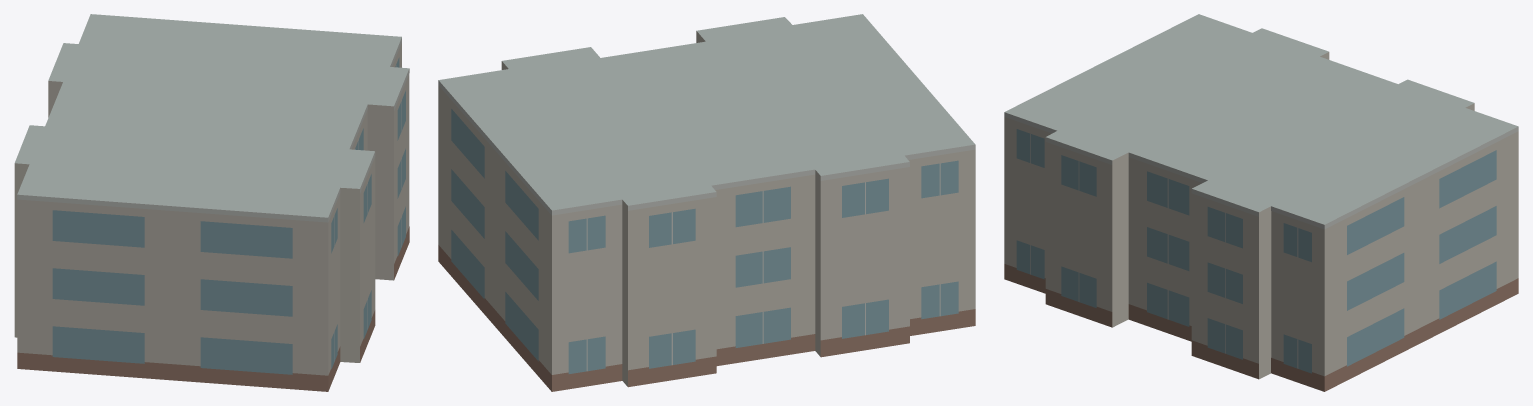
The model's file is survey-upis-32534227.glb.
3 views of the same model, side by side, from view 1: azimuth 30°, elevation 25°; view 2: azimuth 150°, elevation 25°; view 3: azimuth 270°, elevation 25° (orthographic). The views are drawn at different scales.
Parts seen in each view (by area): view 1: survey-upis-32534227.tmp; view 2: survey-upis-32534227.tmp; view 3: survey-upis-32534227.tmp.
Part boxes in pixels (<box>): survey-upis-32534227.tmp: <box>14,14,409,391</box>; survey-upis-32534227.tmp: <box>438,14,975,391</box>; survey-upis-32534227.tmp: <box>1004,14,1518,391</box>.
Size of the model in its own units: 23.82 by 8.8 by 24.57.
